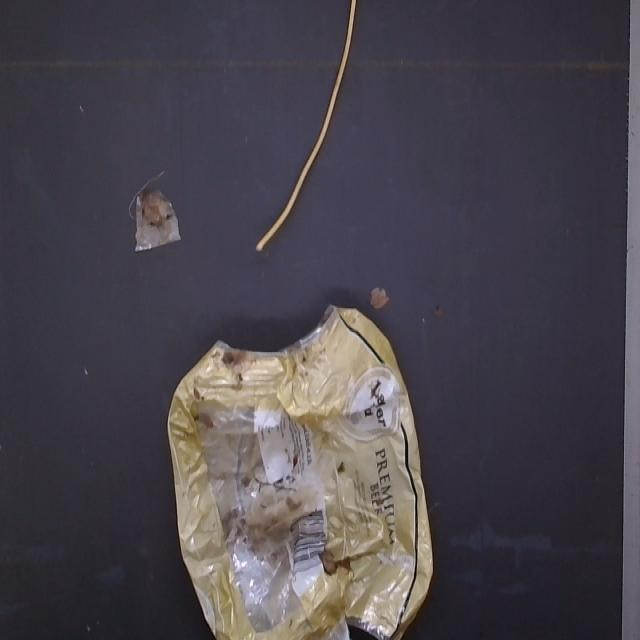food_wrapping: (152, 304, 451, 640)
undef_hard_plastic: (128, 177, 186, 264)
